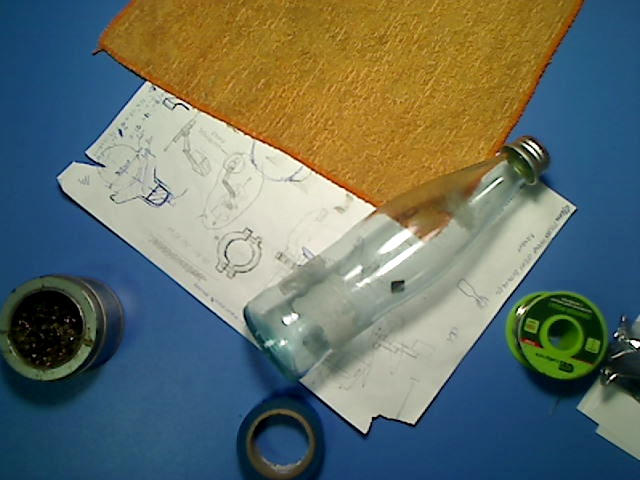bottle: (241, 132, 553, 383)
